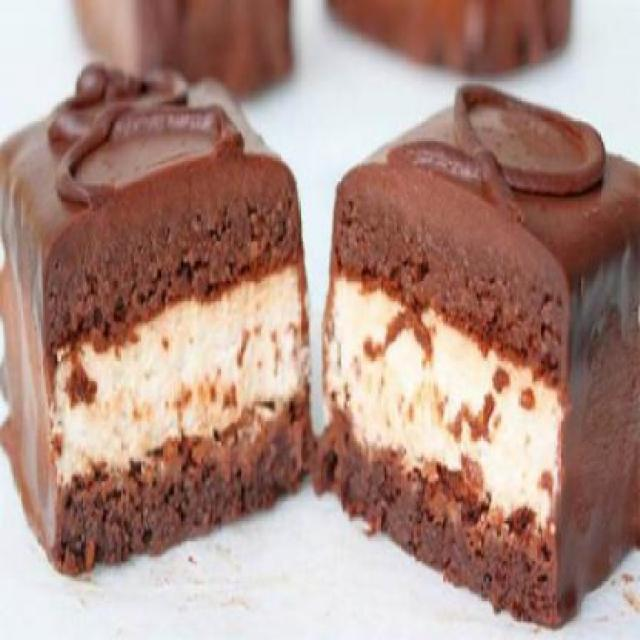Merendine packaged: (2, 61, 640, 634)
